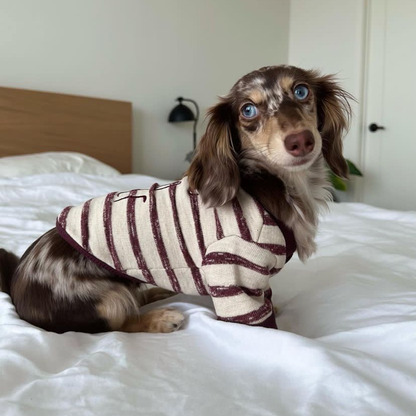dachshund: (12, 52, 369, 356)
